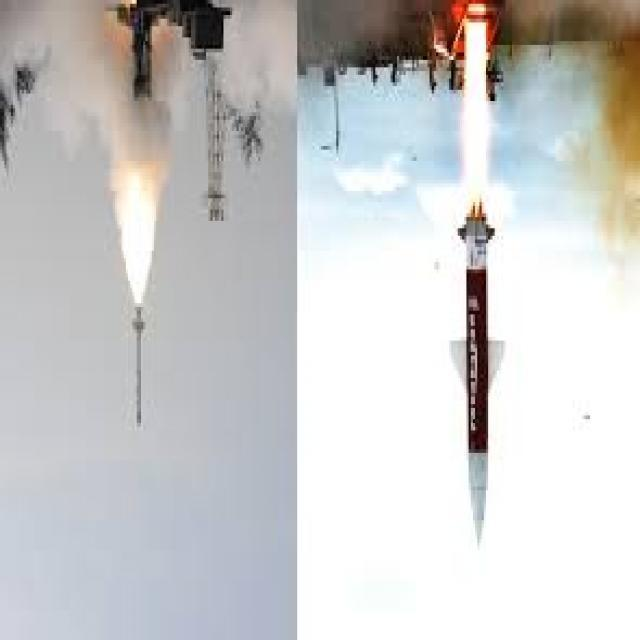Missile: (444, 208, 511, 552), (129, 299, 147, 438)
